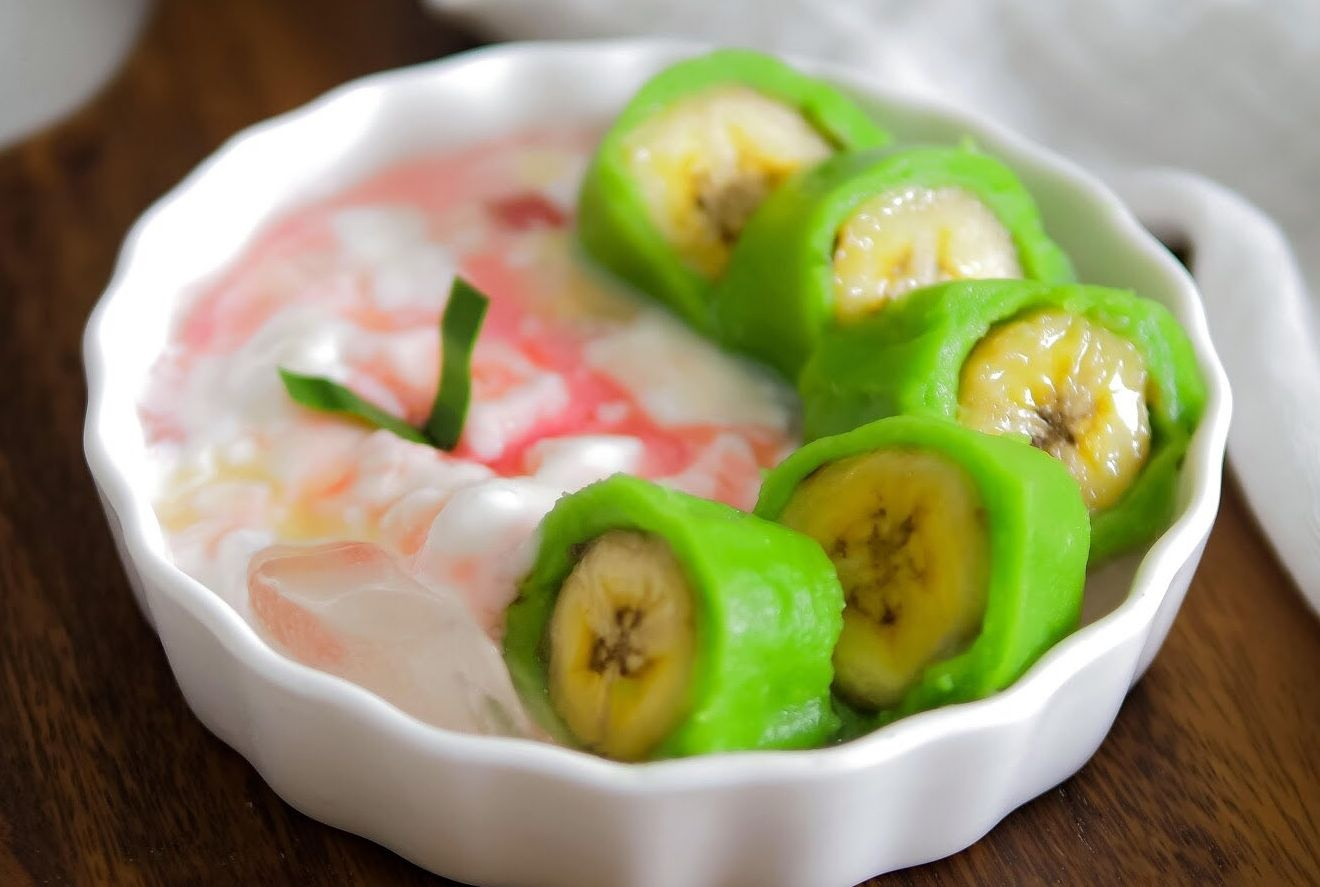pisang_ijo: (494, 489, 841, 782)
